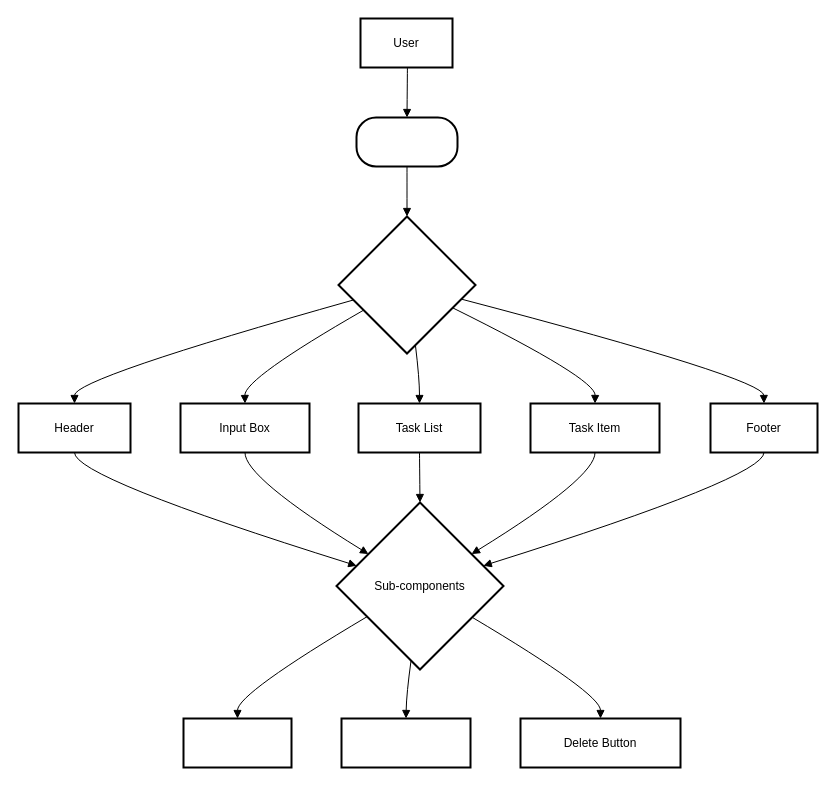
Some shapes in this 835 by 785 pixel diagram are drawn without their labels. The shapes that lost their labels are listed below. From the top down, each one's box as (x1, y1, x2, y2) in pixels, then its label:
(355, 116, 458, 167): To Do List
(337, 215, 476, 354): Components
(182, 717, 292, 768): Button
(340, 717, 471, 768): Checkbox
